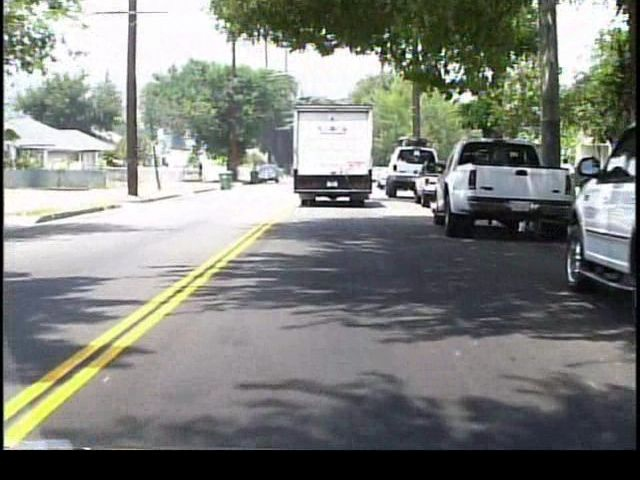person: (197, 162, 206, 185)
